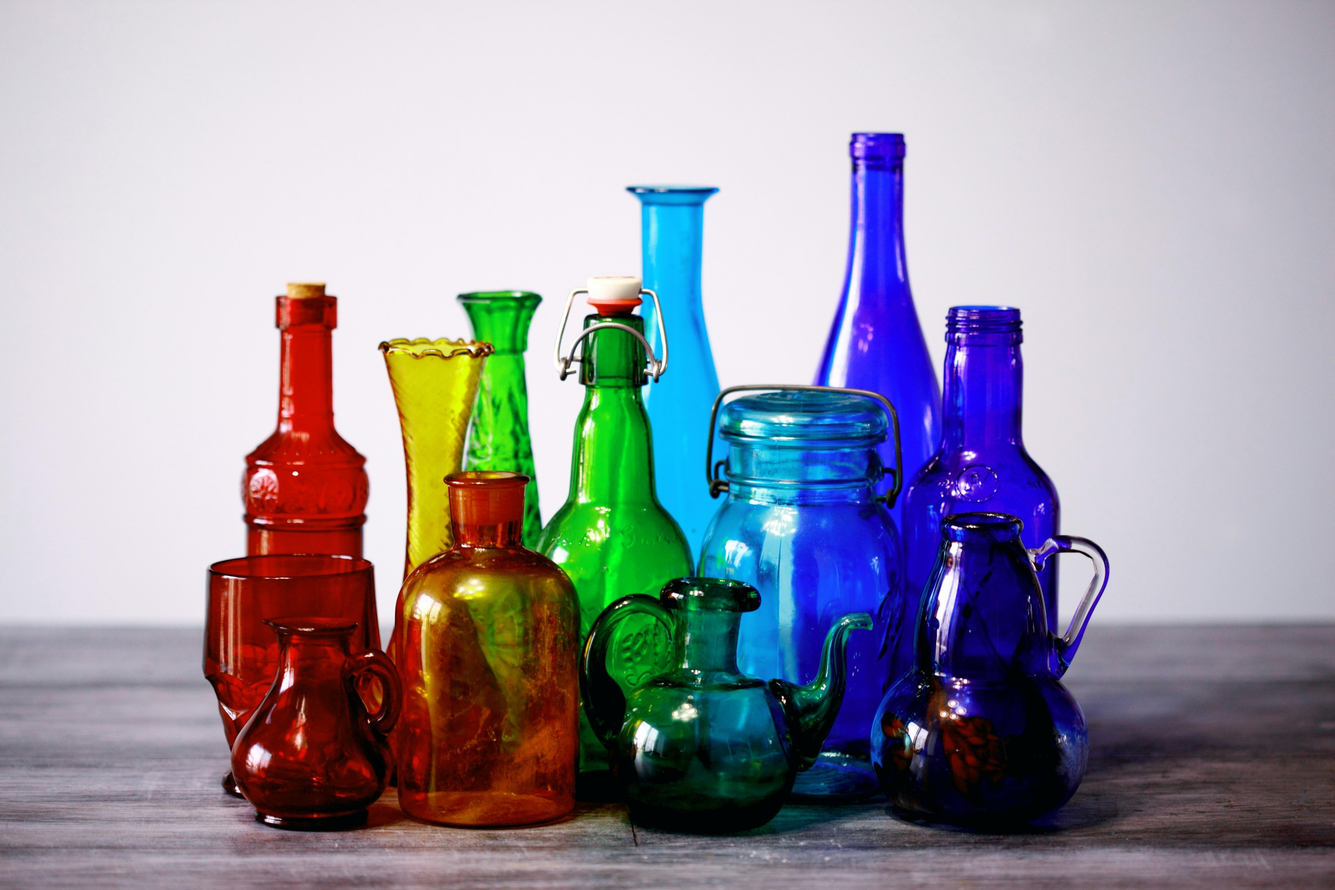Bottle-Detection: (540, 221, 706, 811), (863, 502, 1143, 849), (580, 549, 887, 844), (699, 357, 913, 765), (395, 452, 585, 844), (801, 102, 958, 563), (910, 250, 1077, 658), (594, 157, 746, 575), (183, 528, 409, 803), (361, 283, 509, 620), (219, 609, 418, 849), (226, 261, 371, 561), (435, 271, 549, 556)
